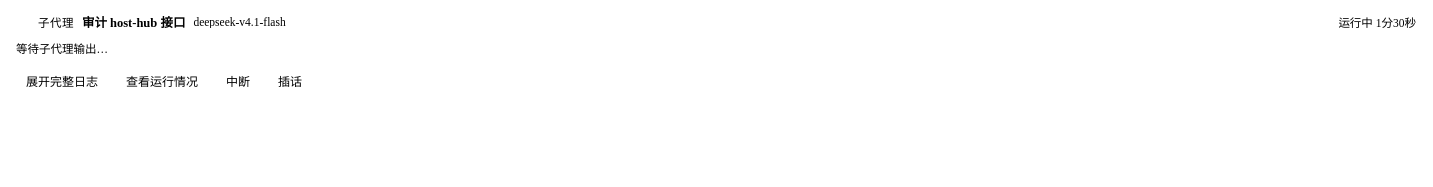
delegate 运行卡：插话 › unsupported-method：走 classifyGatewayError 给能力提示
This screenshot has width=1433, height=187.
Click the button "插话". click: (290, 82)
box: [268, 68, 312, 94]
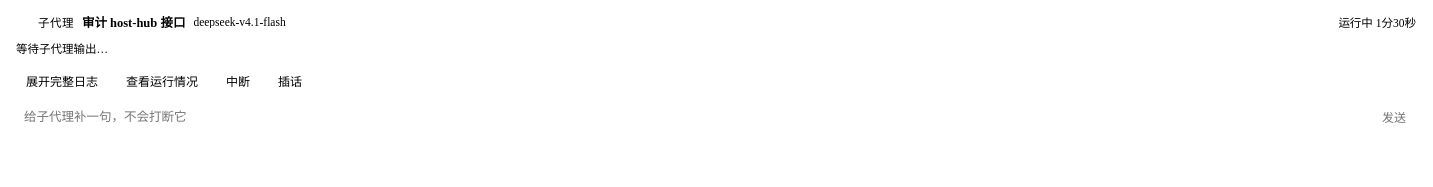
Type "老内核" into the field with placeholder "给子代理补一句，不会打断它". click: (690, 118)
box: [16, 104, 1364, 130]
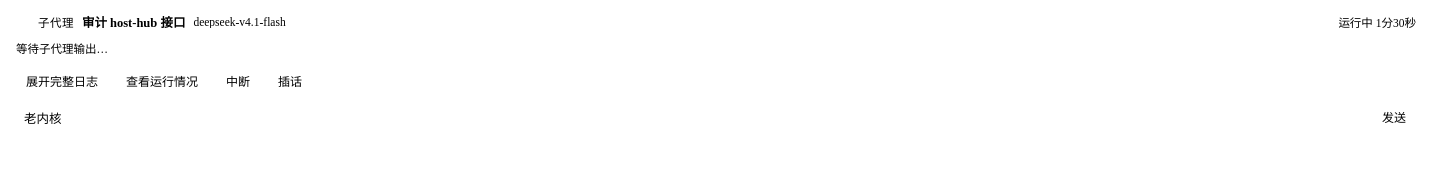
Click the button "发送". click: (1394, 118)
box: [1372, 104, 1416, 130]
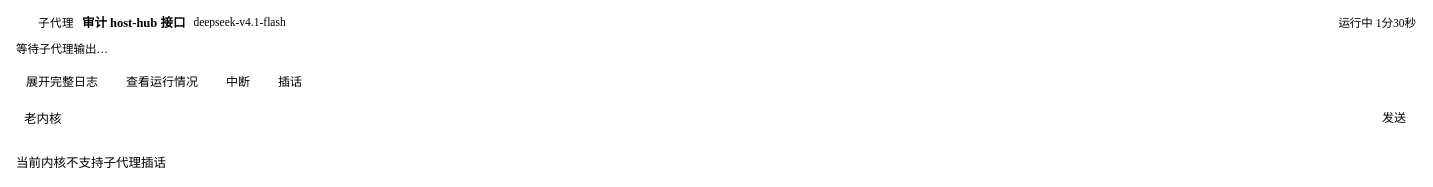
Now the text "当前内核不支持子代理插话" is shown, box [16, 156, 166, 170]
